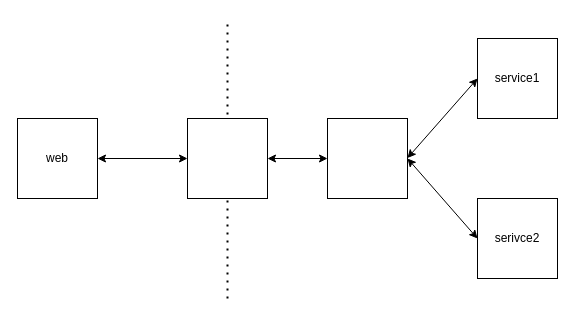
Some shapes in this 575 by 317 pixel diagram are drawn without their labels. The shapes that lost their labels are listed below. From the top down, each one's box as (x1, y1, x2, y2) in pixels, then its label:
(186, 118, 268, 198): api
(326, 118, 408, 198): RabbitMQ
